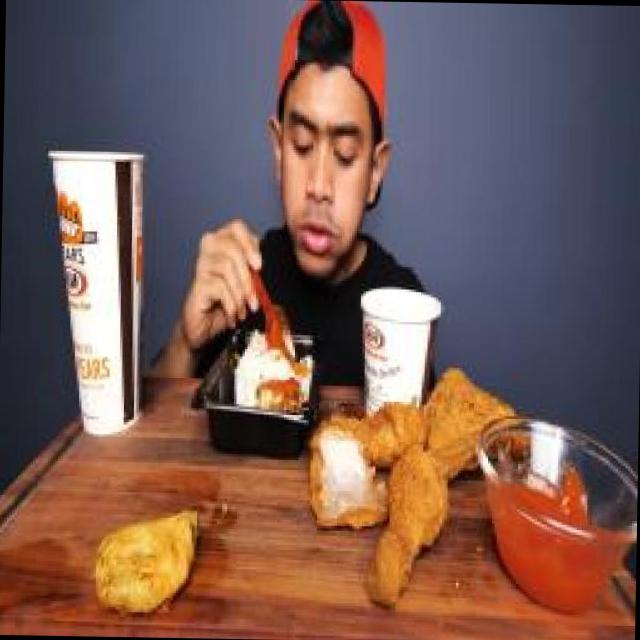AW cola: (33, 125, 154, 455)
black pepper rice bowl: (214, 296, 316, 452)
crispy corn: (358, 278, 459, 428)
fried chicken: (306, 354, 518, 596)
perkedel: (80, 486, 208, 633)
